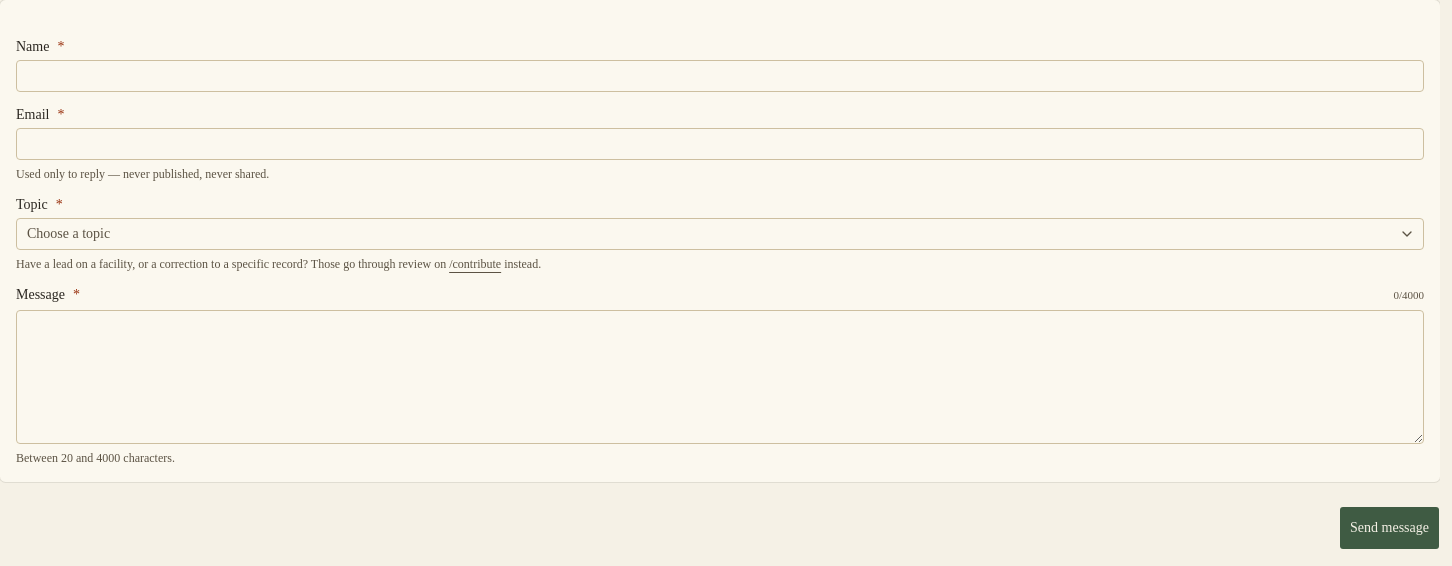
Test: ContactForm — structure › shows a live character counter for the message field
expect the text "0/4000" is shown: met, box [1393,288,1424,304]
Type "hello" into the text box labelled "Message *" at (720, 377), box [16,310,1424,444]
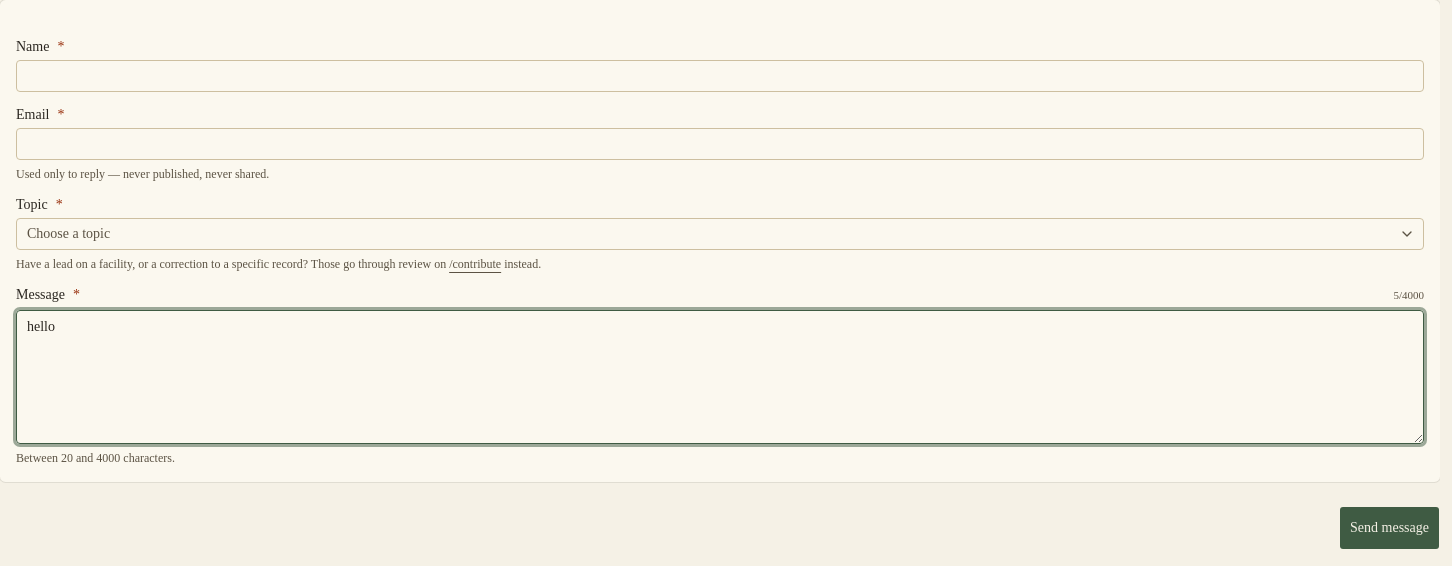
expect the text "5/4000" is shown: met, box [1393,288,1424,304]
